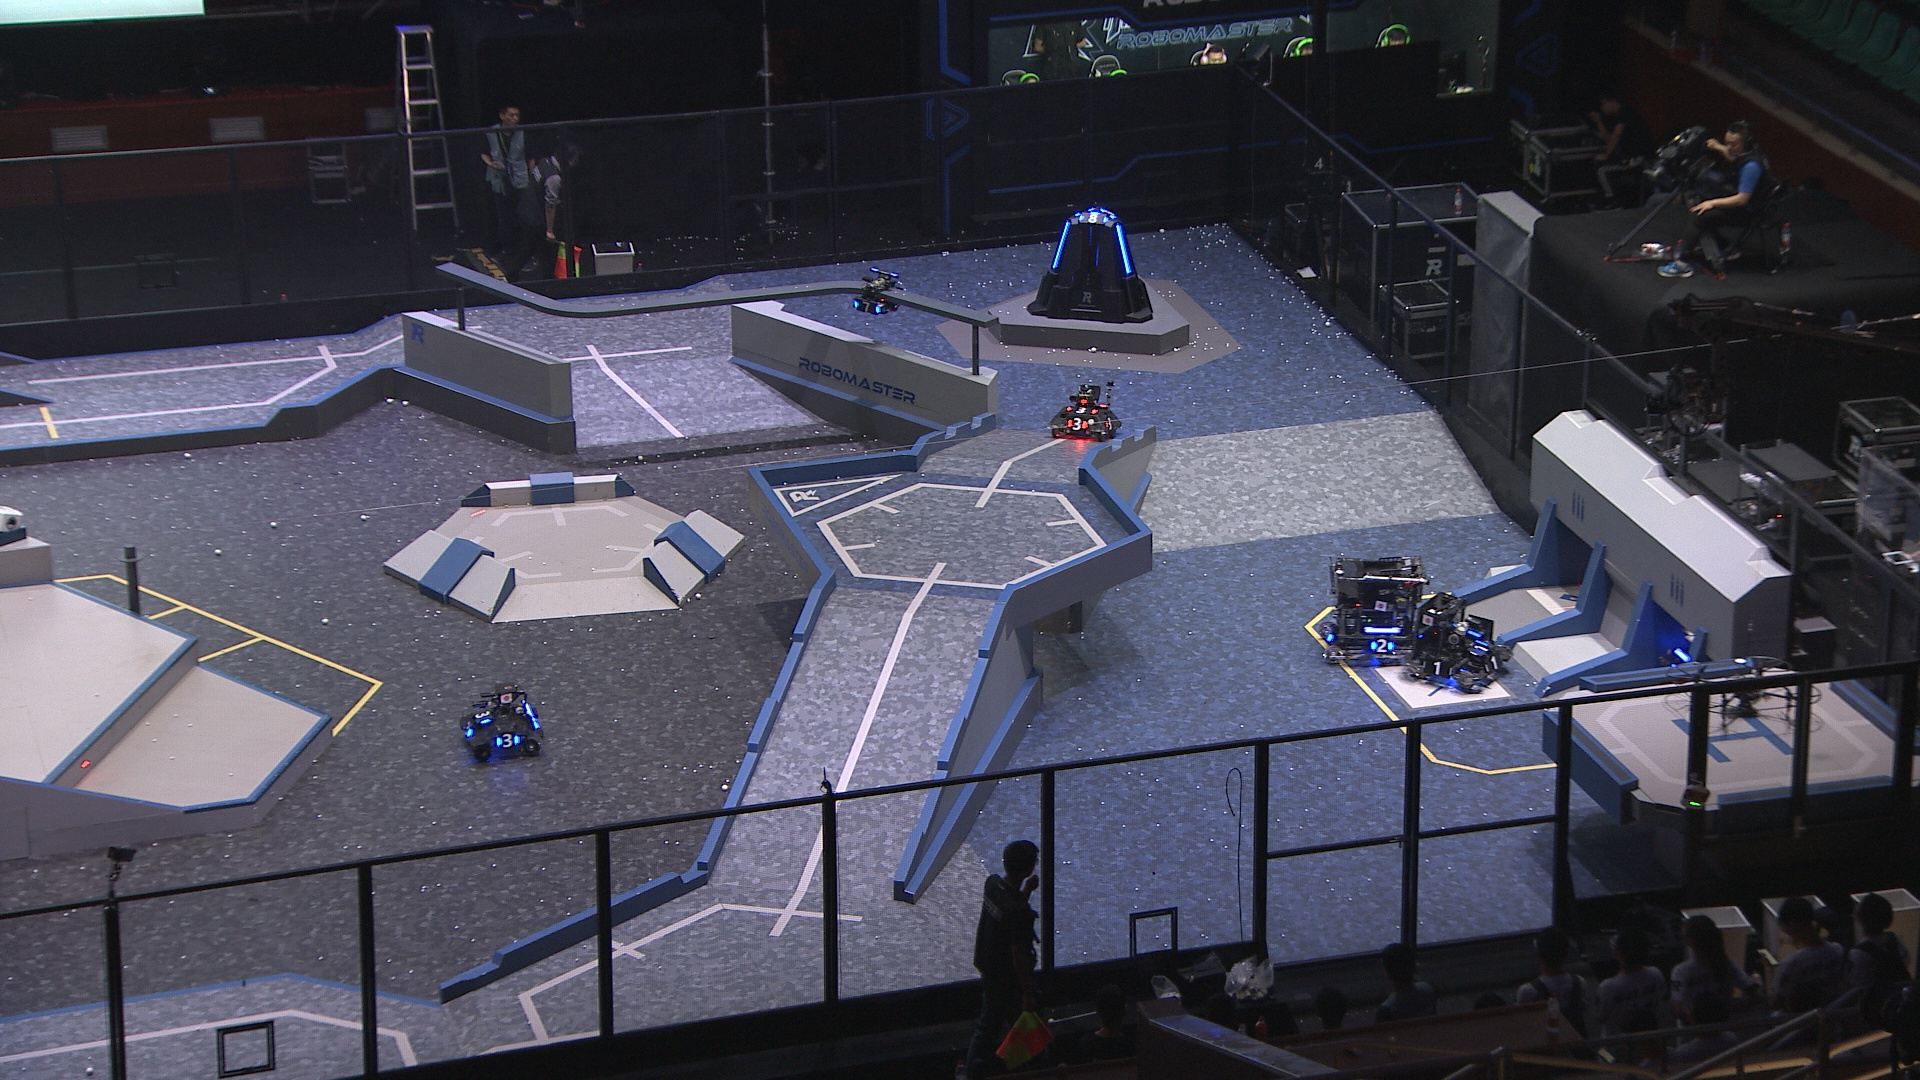armor: (1050, 220, 1072, 272), (1114, 223, 1135, 277), (1420, 659, 1456, 679), (851, 299, 884, 315), (1079, 210, 1110, 225), (1064, 404, 1100, 417), (471, 708, 495, 727), (1481, 654, 1505, 673), (1468, 638, 1491, 655), (1371, 638, 1394, 655), (1064, 417, 1088, 433), (495, 732, 520, 746), (1102, 414, 1116, 433), (462, 719, 473, 737)
base: (1025, 204, 1154, 322)
car: (1319, 553, 1429, 665), (1404, 589, 1515, 694), (456, 680, 547, 761), (1048, 381, 1125, 446)
watcher: (851, 266, 906, 316)
